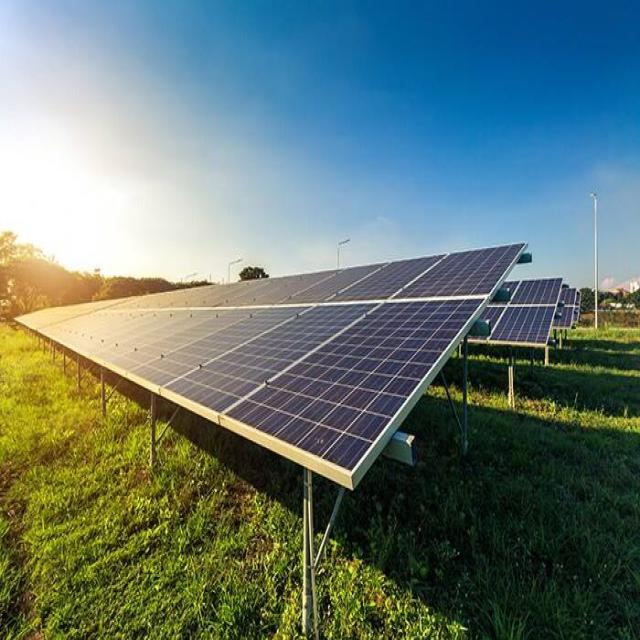clean-solar-panel: (19, 244, 524, 489)
